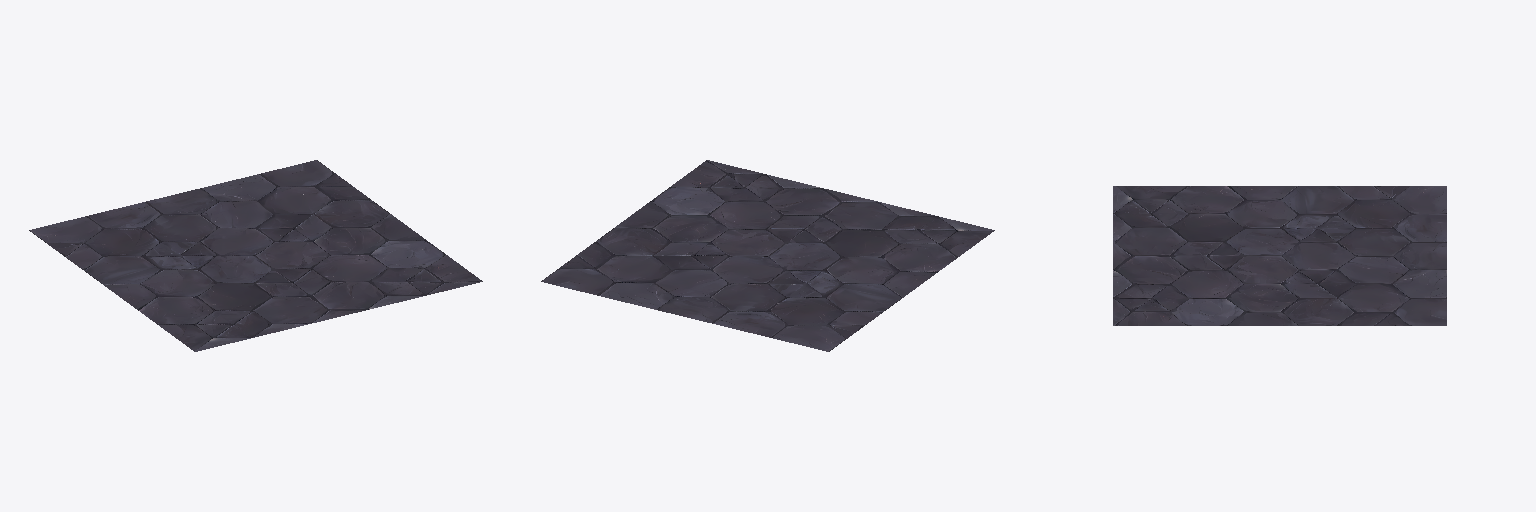
The picture shows the model from 3 angles: view 1: azimuth 30°, elevation 25°; view 2: azimuth 150°, elevation 25°; view 3: azimuth 270°, elevation 25°; orthographic projection.
Parts seen in each view (by area): view 1: Plane; view 2: Plane; view 3: Plane.
Boxes of the visible parts, x1,y1,x2,y2 form: Plane: [29, 160, 482, 351]; Plane: [541, 160, 994, 351]; Plane: [1113, 186, 1446, 325].
Size of the model in its own units: 200 by 0 by 200.
Materials: 1 (1 with a texture image).